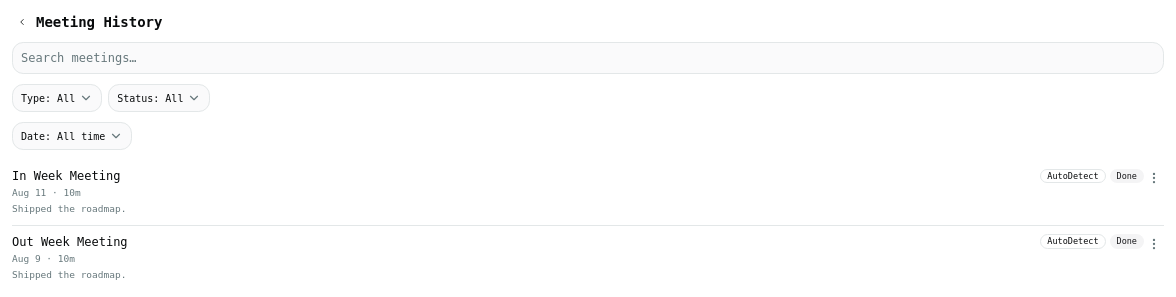
Test: MeetingHistory › Date filter › narrows to this week's meetings when 'This week' is selected
This screenshot has width=1176, height=297.
Expected: the text "In Week Meeting" is shown, [12,168,120,184]
Click the dropdown labelled "Date: All time". click: {"x": 72, "y": 136}
box: [12,122,132,150]
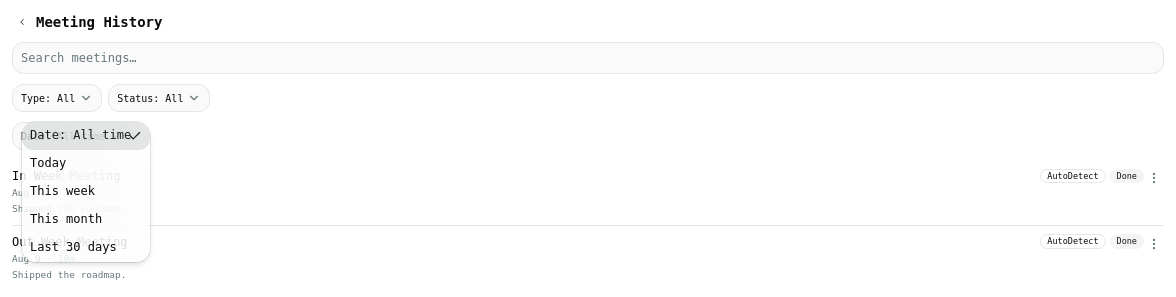
Click the option "This week". click: {"x": 62, "y": 191}
box: [30,184,95,198]
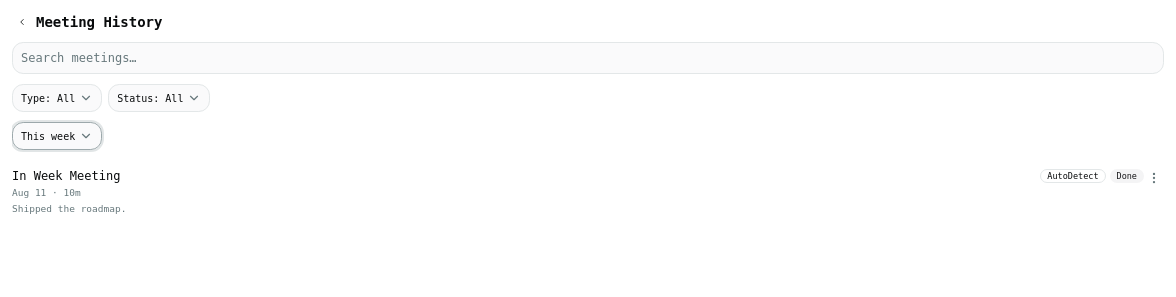
Expected: the text "In Week Meeting" is shown, [12,168,120,184]
Now the text "Out Week Meeting" is gone
